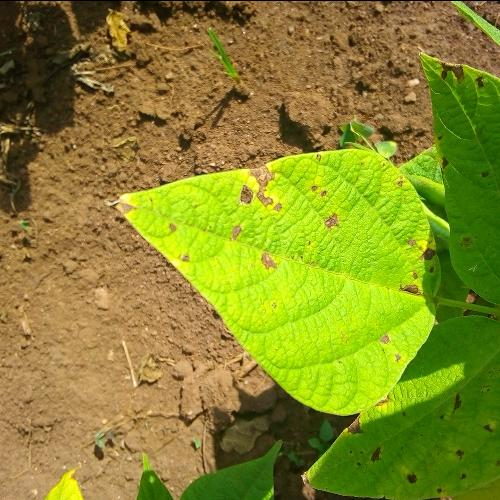mozaik: (165, 131, 394, 360), (293, 337, 500, 498), (410, 42, 500, 294)
